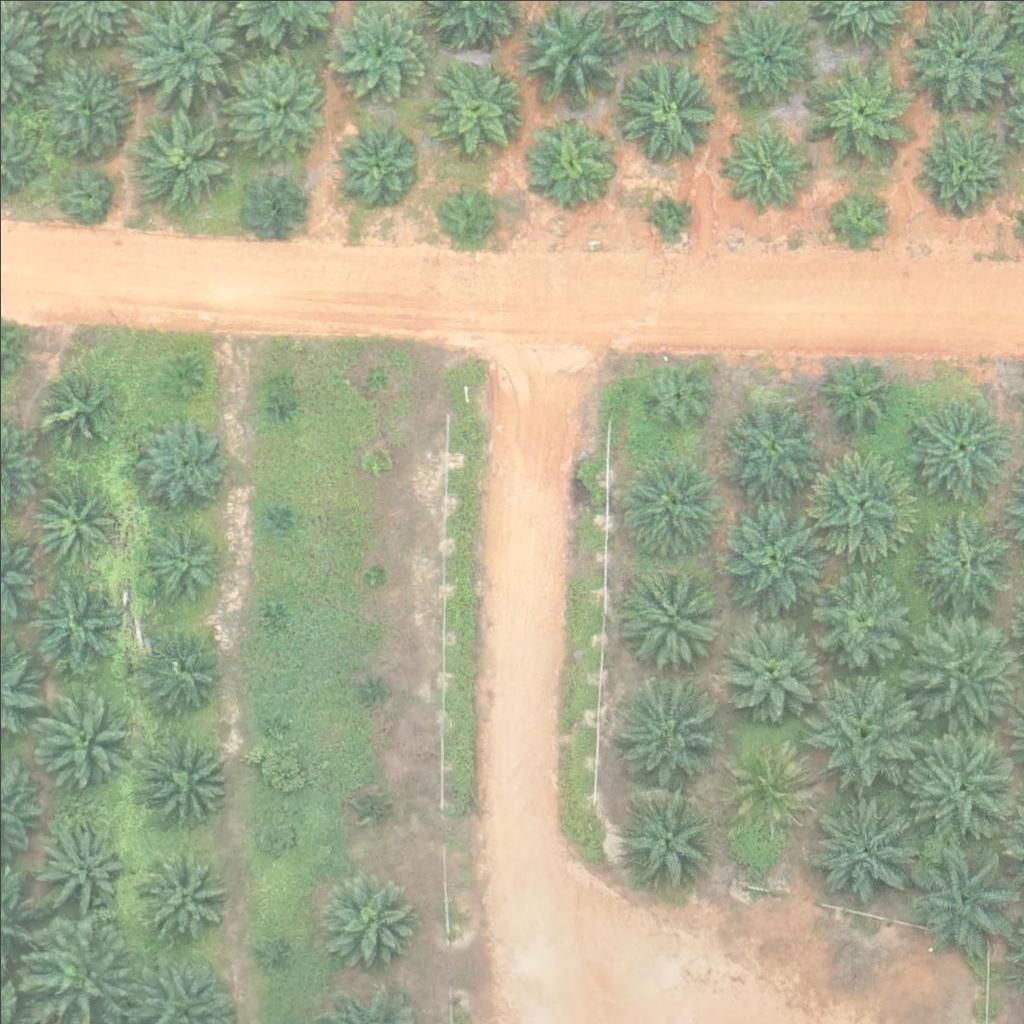Kelapa_Sawit: (802, 790, 915, 904), (804, 674, 917, 788), (904, 839, 1017, 953), (715, 502, 828, 615), (905, 733, 1017, 847), (803, 441, 915, 554), (127, 405, 239, 518), (608, 676, 720, 789), (908, 609, 1020, 722), (33, 687, 133, 788), (25, 575, 125, 676), (320, 875, 420, 976), (618, 788, 718, 889), (721, 396, 821, 497), (912, 505, 1012, 606), (908, 398, 1008, 499), (909, 6, 1009, 107), (807, 59, 907, 160), (715, 7, 815, 108), (228, 56, 328, 157), (128, 108, 228, 209), (39, 54, 139, 155), (623, 569, 723, 669), (618, 455, 718, 555), (717, 616, 817, 716), (811, 566, 911, 666), (615, 63, 715, 163), (520, 5, 620, 105), (133, 518, 221, 607), (136, 627, 224, 715), (27, 475, 115, 563), (724, 738, 812, 826), (722, 120, 810, 208), (429, 65, 517, 153), (330, 116, 418, 204), (36, 822, 123, 910), (136, 855, 223, 943), (143, 733, 230, 821), (911, 123, 998, 211), (524, 111, 611, 199), (637, 357, 712, 433), (33, 370, 108, 445), (819, 352, 894, 427), (243, 171, 306, 234), (829, 190, 891, 253), (434, 178, 496, 241), (61, 167, 111, 217), (254, 813, 292, 851), (161, 358, 199, 396), (647, 195, 684, 233), (254, 941, 279, 966), (258, 711, 283, 736), (264, 595, 289, 620), (358, 791, 383, 816), (358, 678, 383, 703), (362, 560, 387, 585), (366, 448, 391, 473), (363, 364, 388, 389), (263, 506, 288, 531), (270, 396, 295, 421)
